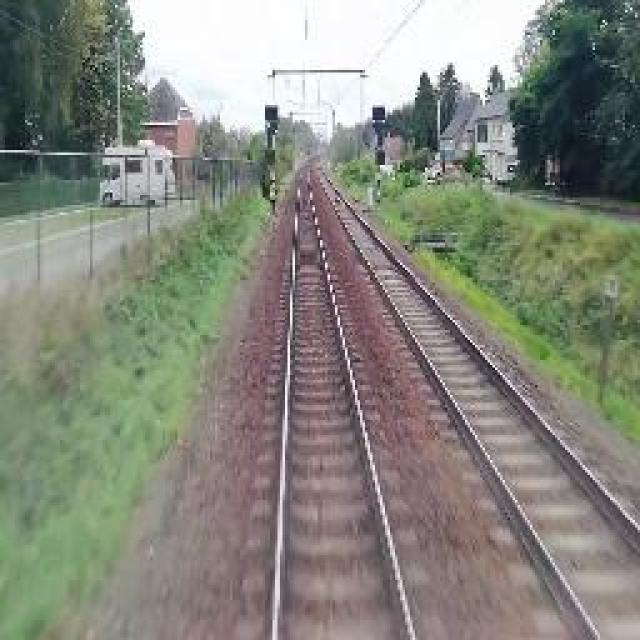rail: (245, 166, 459, 640)
